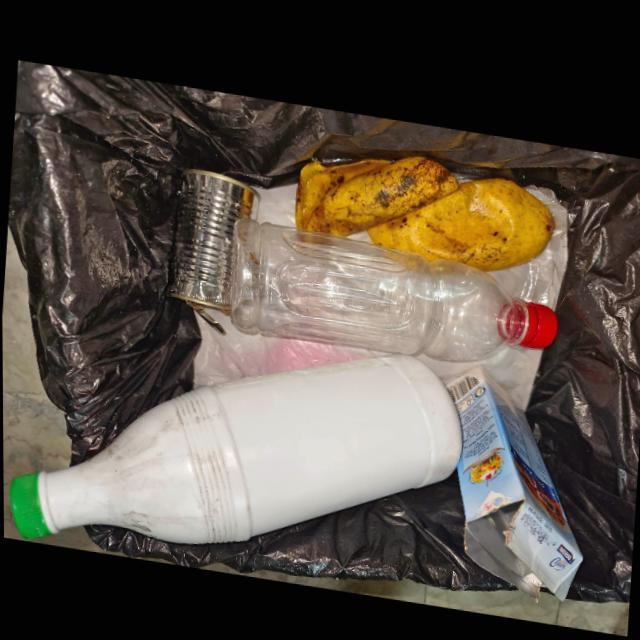biowaste: (292, 145, 558, 265)
metal: (169, 165, 258, 331)
paper: (444, 356, 582, 592)
plastic: (9, 344, 461, 541), (229, 216, 555, 351)
